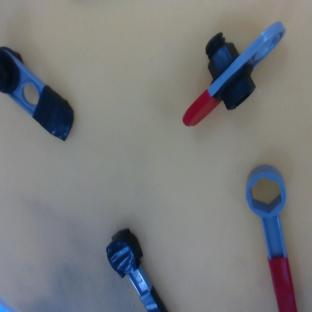part_1_bad: (0, 41, 85, 149)
part_3_bad: (100, 226, 168, 312)
part_3_good: (241, 162, 308, 312)
